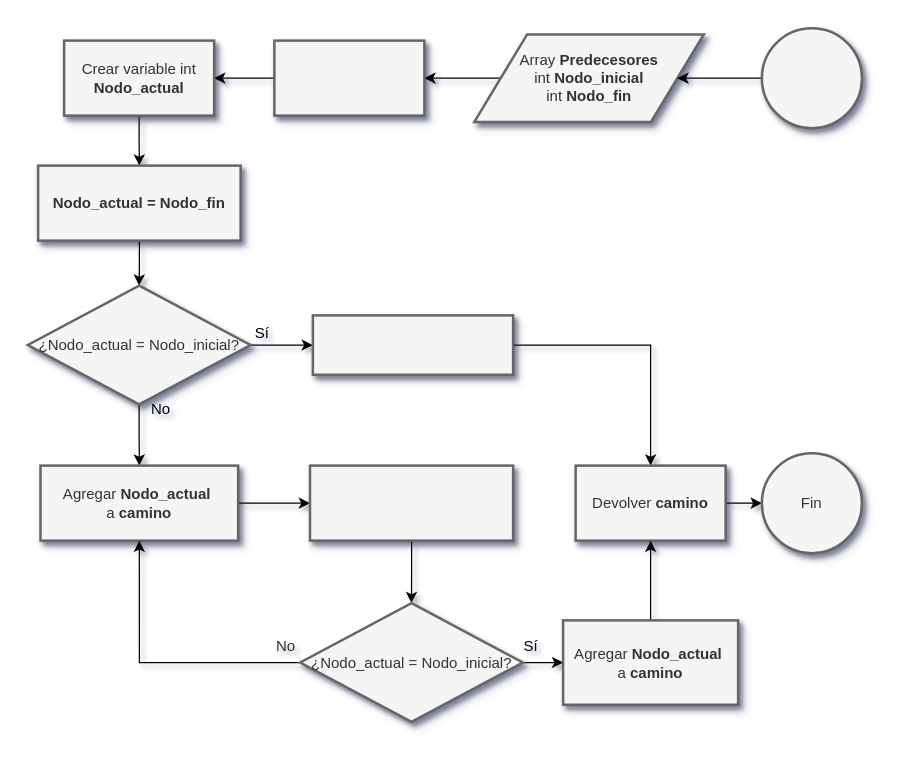
Some shapes in this 900 by 760 pixel diagram are drawn without their labels. The centre of each missing label's shape, as x and y in pixels:
"camino = [ Nodo_inicial]" belongs at point 413,346.
"Crear array vacio camino" belongs at point 350,79.
"Empezar" belongs at point 812,79.
"Nodo_actual = Predecesores[ Nodo_actual ]" belongs at point 412,504.
